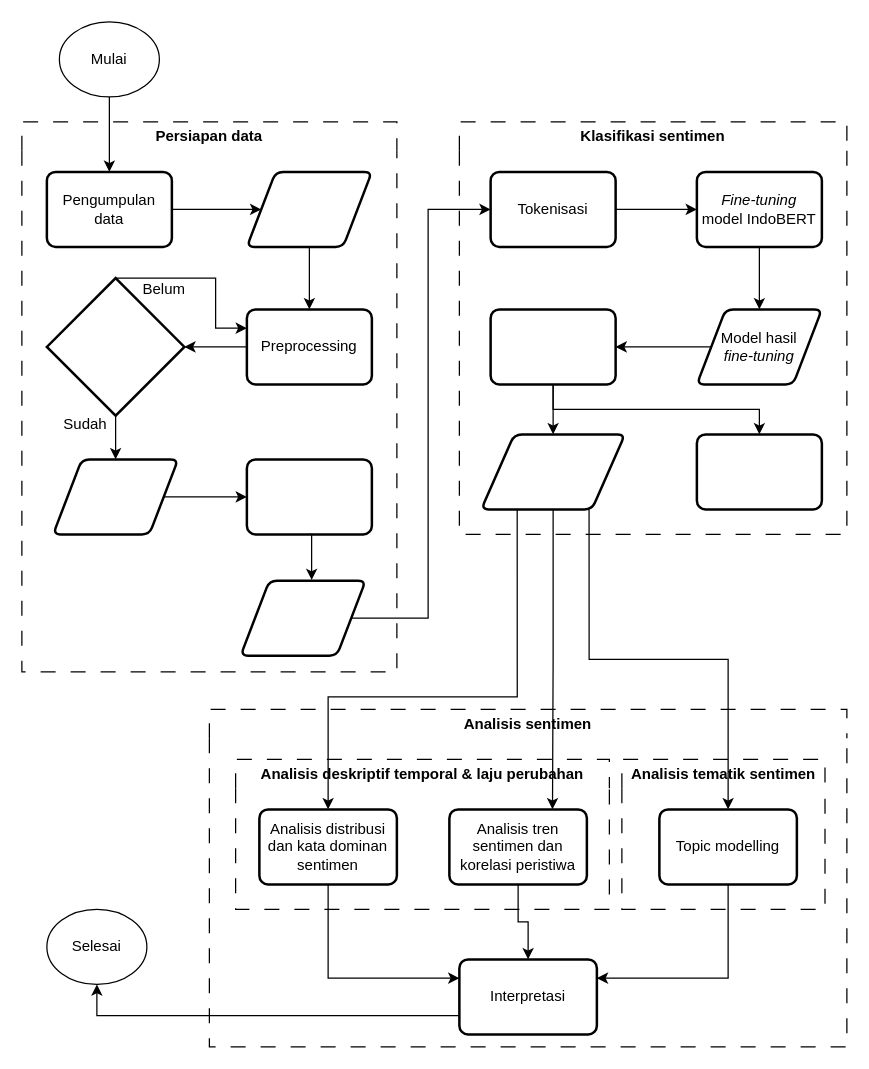
Some shapes in this 869 by 1069 pixel diagram are drawn without their labels. Each missing label, with the box of its shape:
5-10% data terlabel: (239, 579, 366, 656)
Clean dataset: (51, 458, 179, 535)
Dataset sudah sesuai?: (45, 276, 185, 416)
Dataset terklasifikasi: (479, 432, 626, 510)
Evaluasi: (695, 432, 822, 510)
Klasifikasi otomatis: (489, 308, 616, 385)
Pelabelan manual: (245, 458, 372, 535)
Raw dataset: (245, 170, 372, 248)
